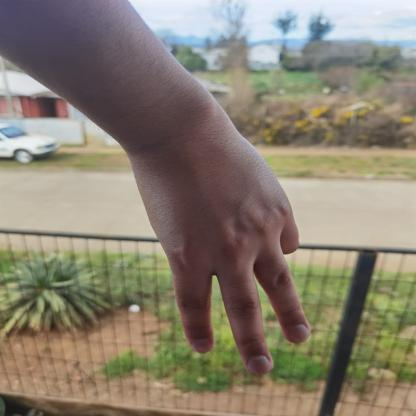M: (102, 101, 346, 376)
